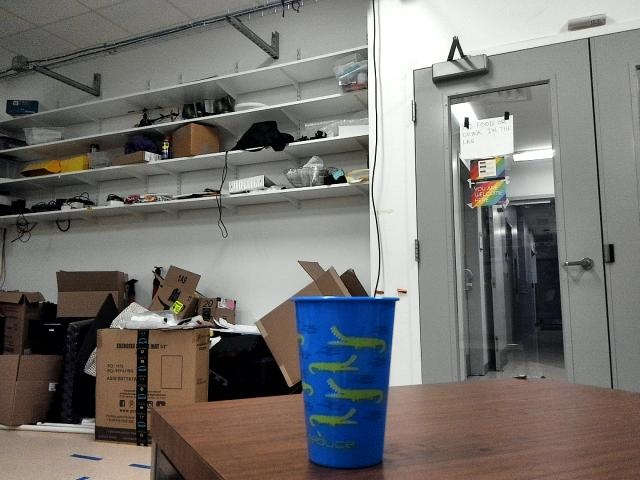water_cup: (284, 287, 408, 473)
